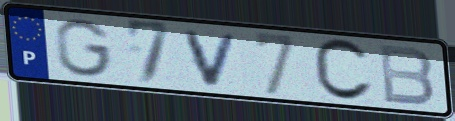7: (123, 18, 172, 90), (253, 29, 301, 98)
B: (375, 42, 437, 108)
C: (310, 37, 376, 104)
G: (53, 17, 116, 79)
V: (181, 29, 243, 89)
